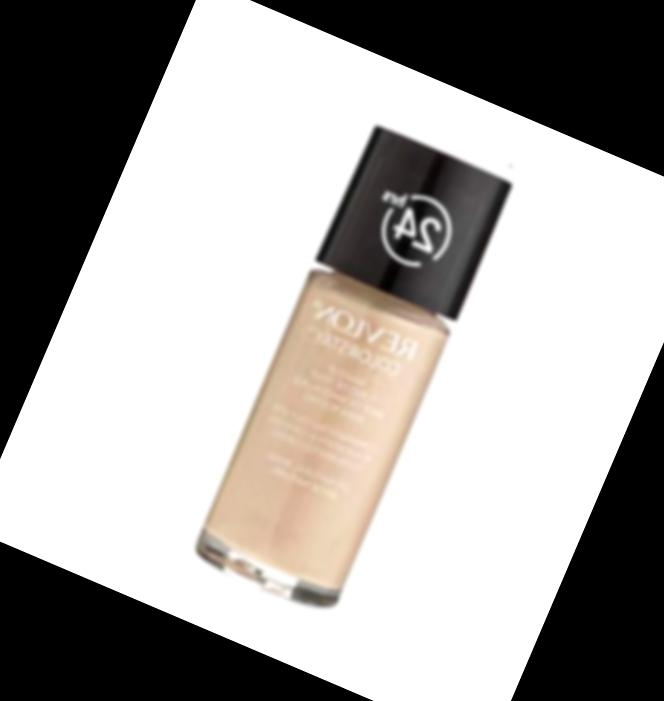cosmetic: (190, 125, 516, 614)
